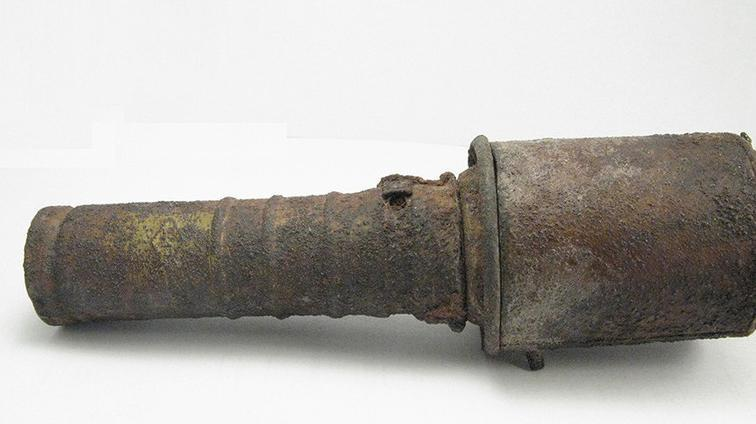Grenade: (21, 131, 755, 370)
